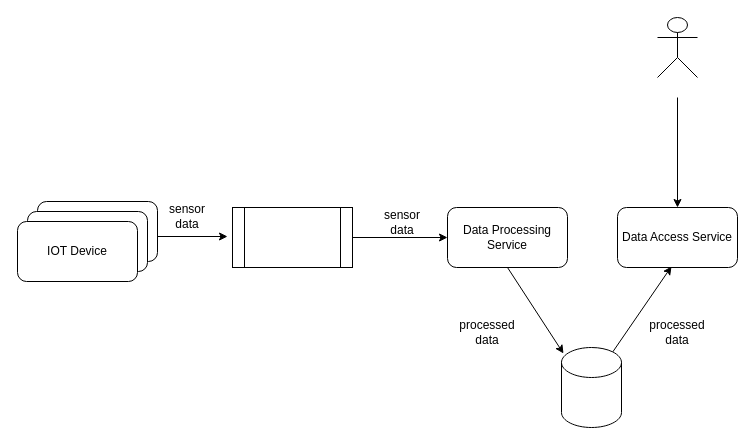
Some shapes in this 755 by 445 pixel diagram are drawn without their labels. Each missing label, with the centre of its shape:
"Actor" goes at [677,47].
"Kafka" goes at [292,237].
"MongoDB" goes at [591,387].
